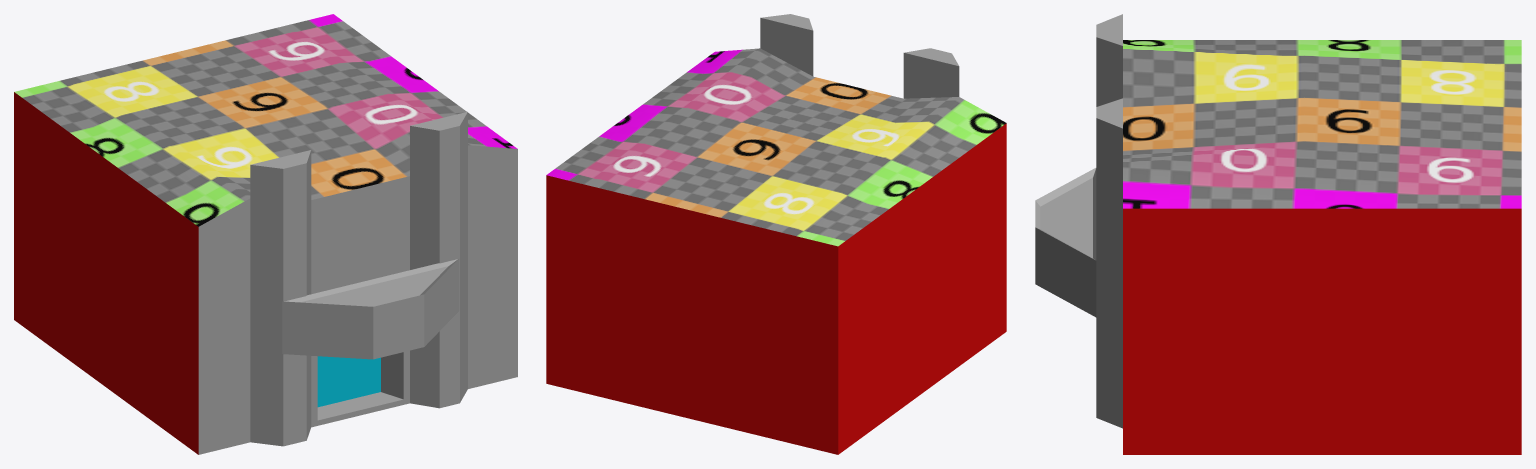
File: SmallTheater.fbx
The picture shows the model from 3 angles, left to right: view 1: azimuth 30°, elevation 25°; view 2: azimuth 150°, elevation 25°; view 3: azimuth 270°, elevation 25°; orthographic projection. The views are drawn at different scales.
Visible parts, largest first — view 1: pCube25; view 2: pCube25; view 3: pCube25.
Part boxes in pixels (box(x1,y1,x2,y2)): pCube25: box(14, 14, 517, 454); pCube25: box(546, 14, 1006, 454); pCube25: box(1035, 14, 1521, 454).
Bounding box in the file's own units: 10.49 × 8.72 × 12.81.
